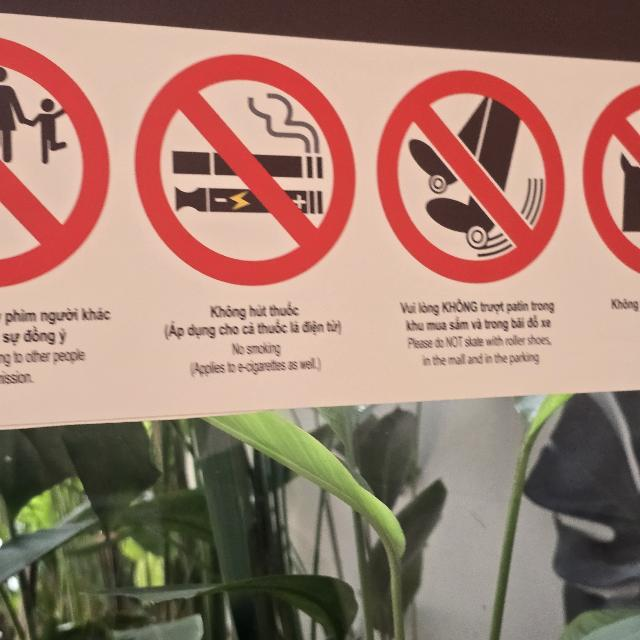cam hut thuoc: (136, 55, 355, 285)
